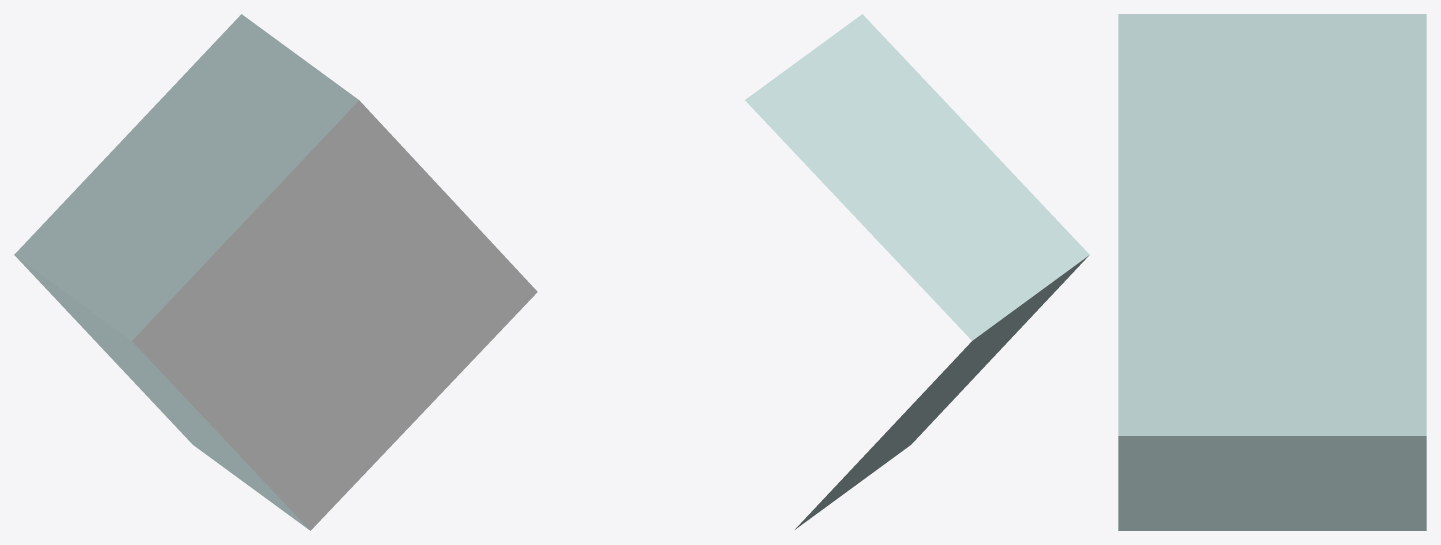
The picture shows the model from 3 angles, left to right: view 1: azimuth 30°, elevation 25°; view 2: azimuth 150°, elevation 25°; view 3: azimuth 270°, elevation 25°; orthographic projection. The views are drawn at different scales.
Parts seen in each view (by area): view 1: 0_2_3_3_2_0_0_3_0; view 2: 0_2_3_3_2_0_0_3_0; view 3: 0_2_3_3_2_0_0_3_0.
Part boxes in pixels (x1,y1,x2,y2): 0_2_3_3_2_0_0_3_0: (14,14,537,530); 0_2_3_3_2_0_0_3_0: (745,14,1089,529); 0_2_3_3_2_0_0_3_0: (1118,14,1426,530).
Bounding box in the file's own units: 5.97 × 5.89 × 3.
